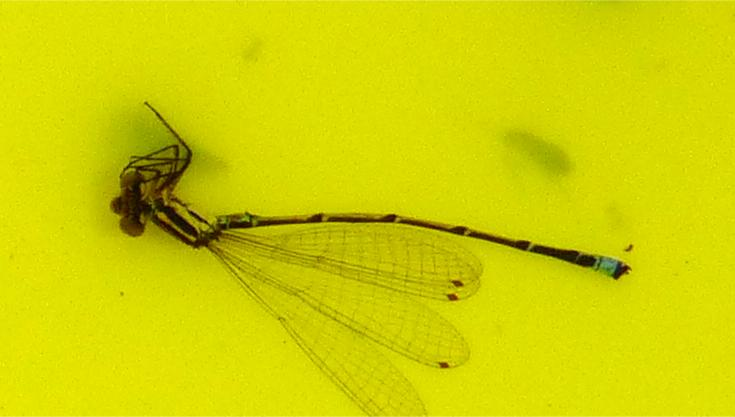Odonata: (100, 100, 635, 317)
